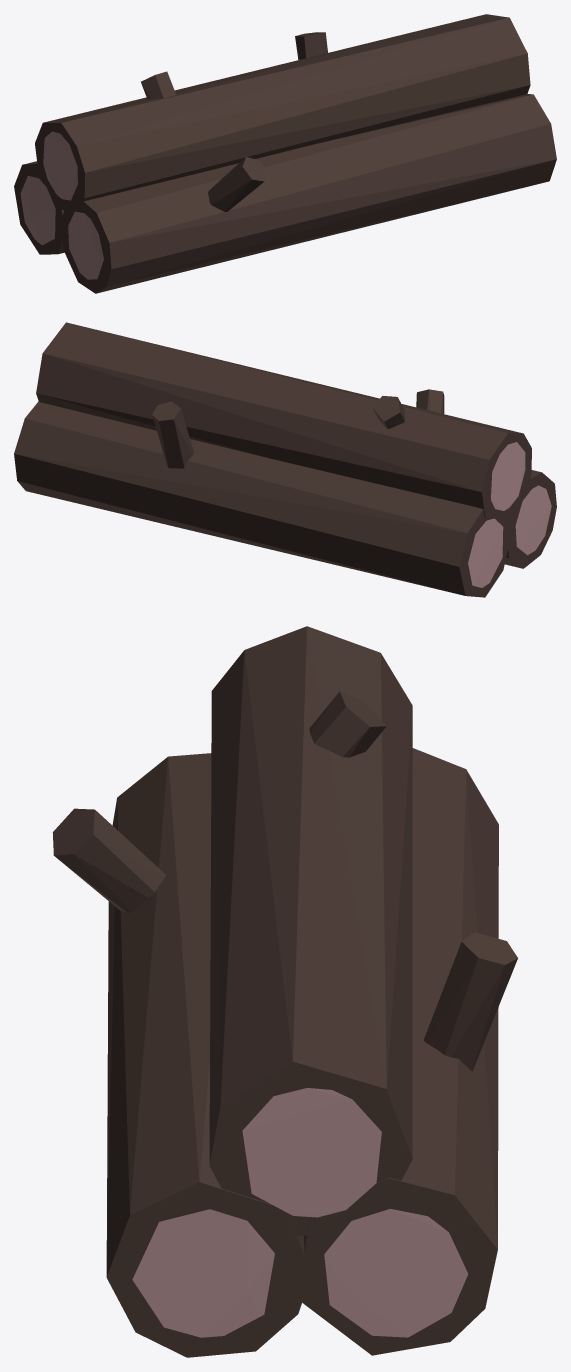
The model's file is LOGS.fbx.
3 views of the same model, one above another, from view 1: azimuth 30°, elevation 25°; view 2: azimuth 150°, elevation 25°; view 3: azimuth 270°, elevation 25° (orthographic). The views are drawn at different scales.
Visible parts, largest first — view 1: Cylinder.005, Cylinder.012; view 2: Cylinder.005, Cylinder.012; view 3: Cylinder.005, Cylinder.012.
Boxes of the visible parts, x1,y1,x2,y2 form: Cylinder.005: [14, 14, 556, 293]; Cylinder.012: [20, 131, 103, 279]; Cylinder.005: [14, 322, 556, 597]; Cylinder.012: [468, 442, 551, 587]; Cylinder.005: [52, 626, 517, 1357]; Cylinder.012: [132, 1088, 468, 1337].
Size of the model in its own units: 131 by 46.32 by 59.01.
